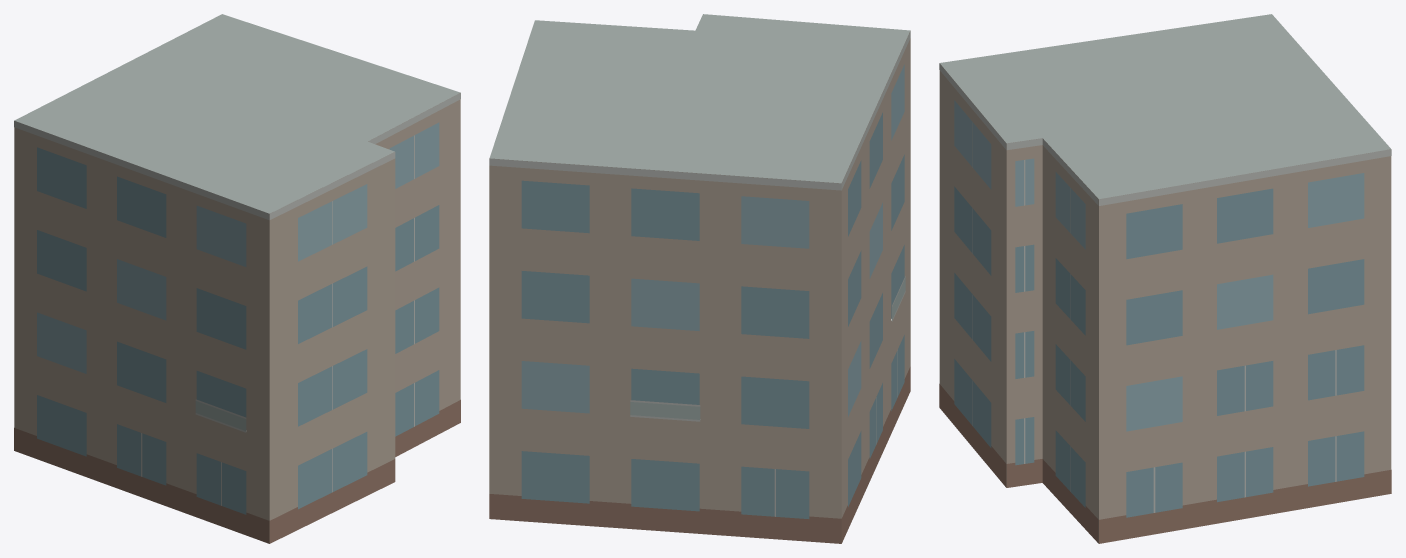
File: survey-upis-32991675.glb
3 views of the same model, side by side, from view 1: azimuth 30°, elevation 25°; view 2: azimuth 150°, elevation 25°; view 3: azimuth 270°, elevation 25° (orthographic). The views are drawn at different scales.
Visible parts, largest first — view 1: survey-upis-32991675.tmp; view 2: survey-upis-32991675.tmp; view 3: survey-upis-32991675.tmp.
Part boxes in pixels (bbox=[...]): survey-upis-32991675.tmp: bbox=[14, 14, 460, 543]; survey-upis-32991675.tmp: bbox=[489, 14, 910, 543]; survey-upis-32991675.tmp: bbox=[939, 14, 1391, 543].
Bounding box in the file's own units: 14.07 × 12.2 × 14.51.
